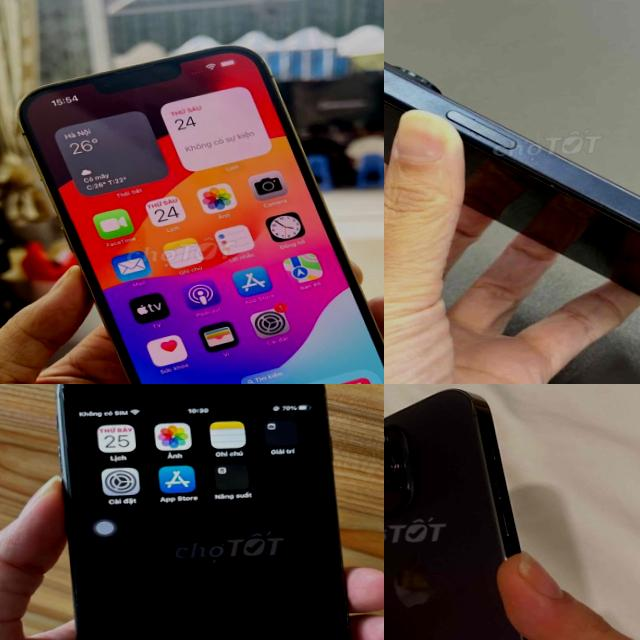scratch: (43, 431, 69, 479), (53, 384, 83, 409), (53, 627, 99, 640), (256, 390, 280, 410), (184, 384, 233, 392)
